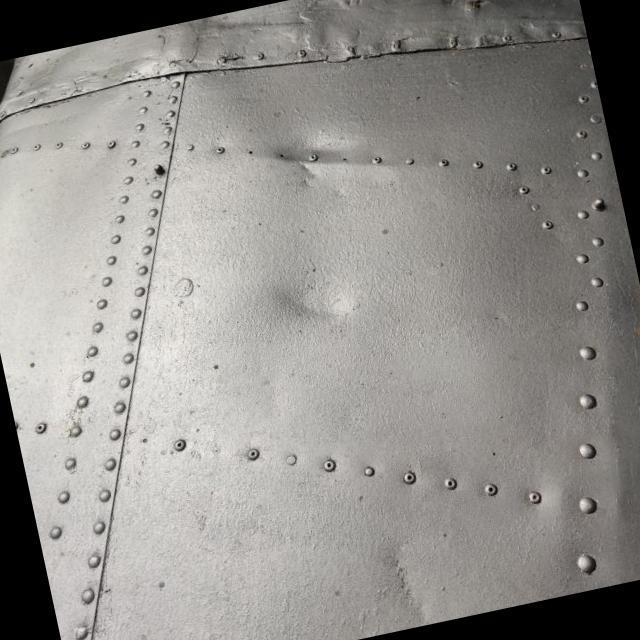dent: (252, 252, 374, 344), (248, 128, 379, 198)
